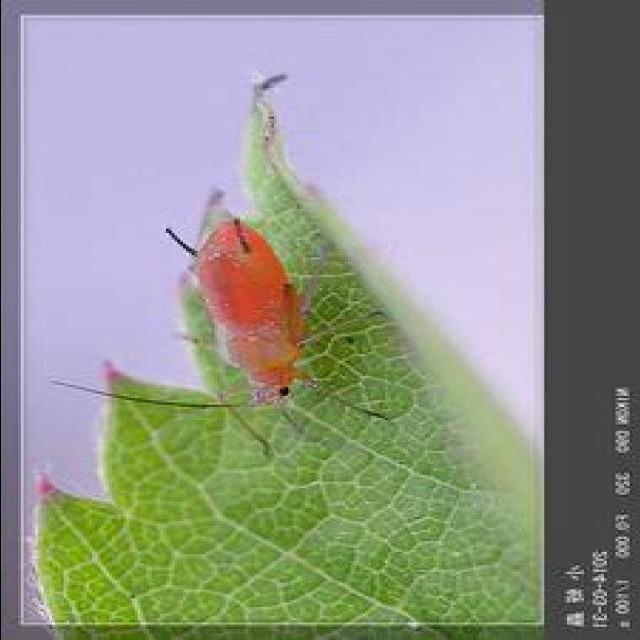aphid: (154, 217, 360, 455)
